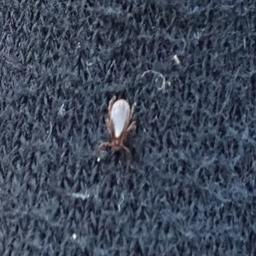Rhipicephalus sanguineus: (96, 94, 139, 171)
